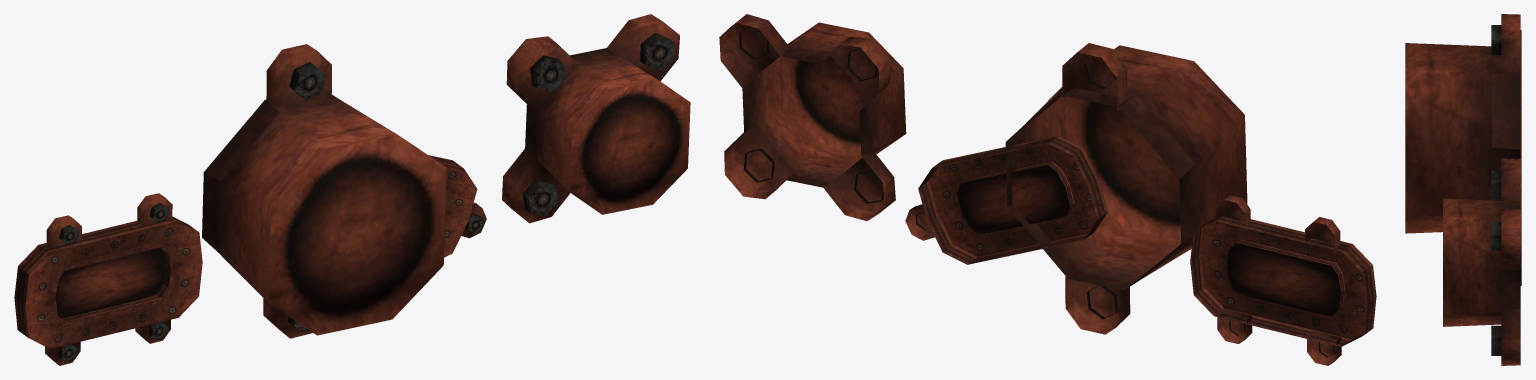
Rendered from multi_cable_hanging_connector01.dae.
3 renders of one model, left to right at view 1: azimuth 30°, elevation 25°; view 2: azimuth 150°, elevation 25°; view 3: azimuth 270°, elevation 25°, orthographic. The views are drawn at different scales.
Parts seen in each view (by area): view 1: polySurface872, polySurface868; view 2: polySurface872, polySurface868; view 3: polySurface872, polySurface868.
Part boxes in pixels (bbox=[...]): polySurface872: bbox=[45, 14, 690, 365]; polySurface868: bbox=[14, 155, 477, 348]; polySurface872: bbox=[719, 14, 1341, 365]; polySurface868: bbox=[918, 135, 1376, 346]; polySurface872: bbox=[1405, 14, 1520, 365]; polySurface868: bbox=[1503, 30, 1521, 285].
Size of the model in its own units: 0.6341 by 0.2605 by 0.1131.
